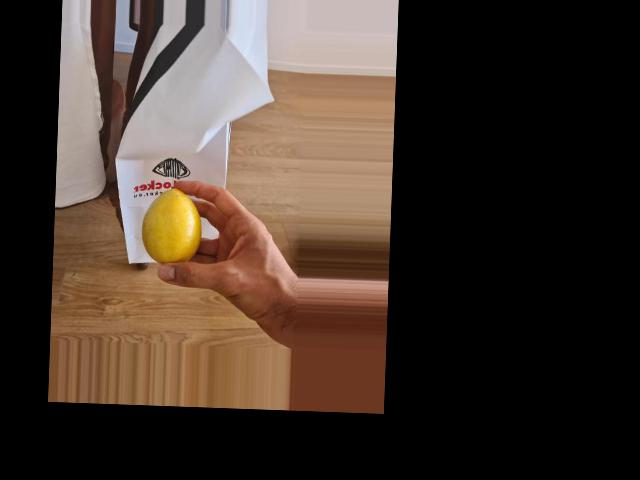lemon: (138, 191, 205, 265)
